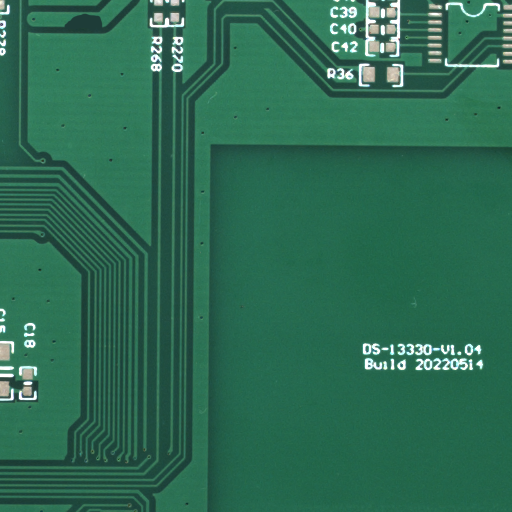Mouse_bite: (85, 22, 129, 46)
